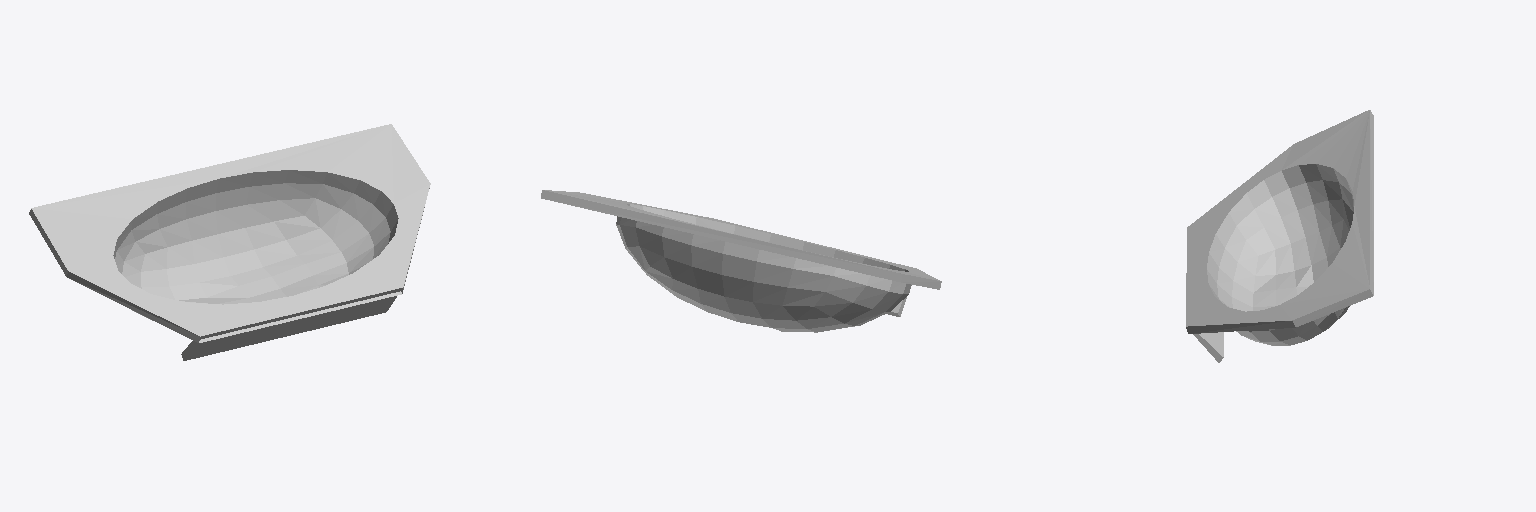
File: gaysink.obj
3 views of the same model, side by side, from view 1: azimuth 30°, elevation 25°; view 2: azimuth 150°, elevation 25°; view 3: azimuth 270°, elevation 25° (orthographic).
Visible parts, largest first — view 1: sink_Vert.005; view 2: sink_Vert.005; view 3: sink_Vert.005.
Boxes of the visible parts, x1=… form: sink_Vert.005: x1=29, y1=124, x2=430, y2=360; sink_Vert.005: x1=541, y1=190, x2=941, y2=332; sink_Vert.005: x1=1186, y1=110, x2=1373, y2=362.
Size of the model in its own units: 0.4888 by 0.152 by 0.2201.